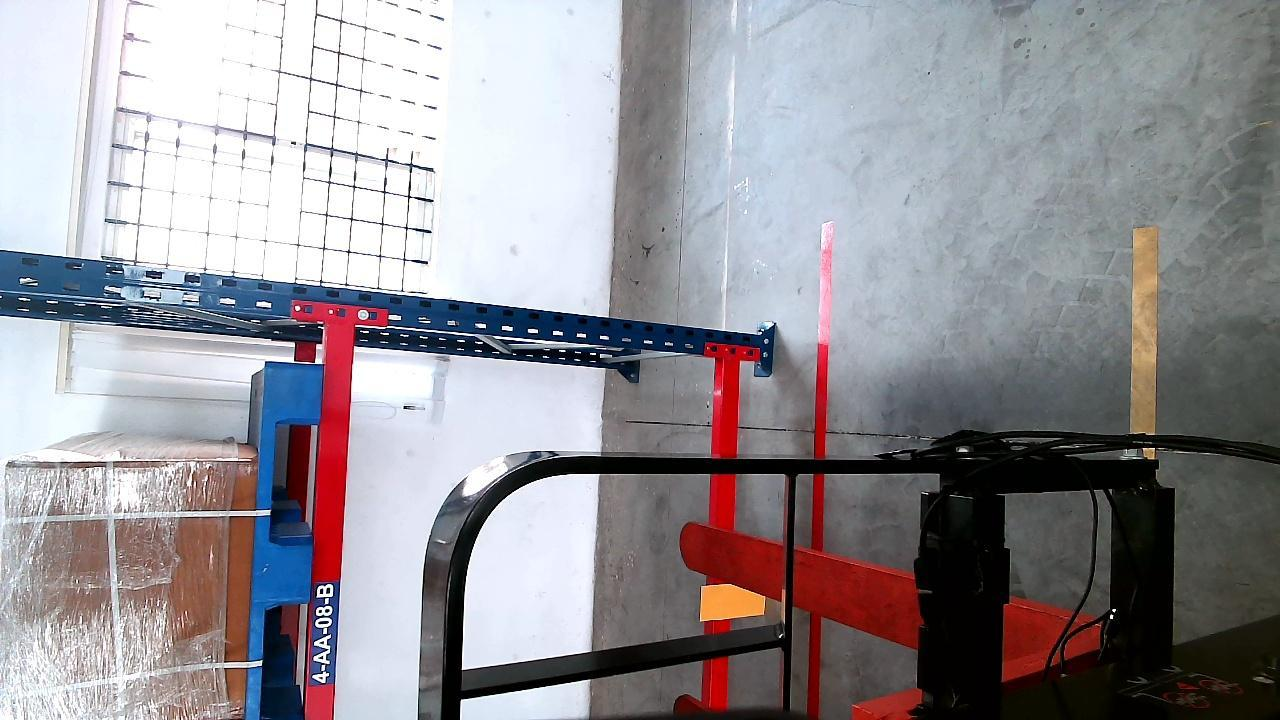red_line: (806, 228, 834, 720)
yellow_line: (1131, 218, 1156, 442)
